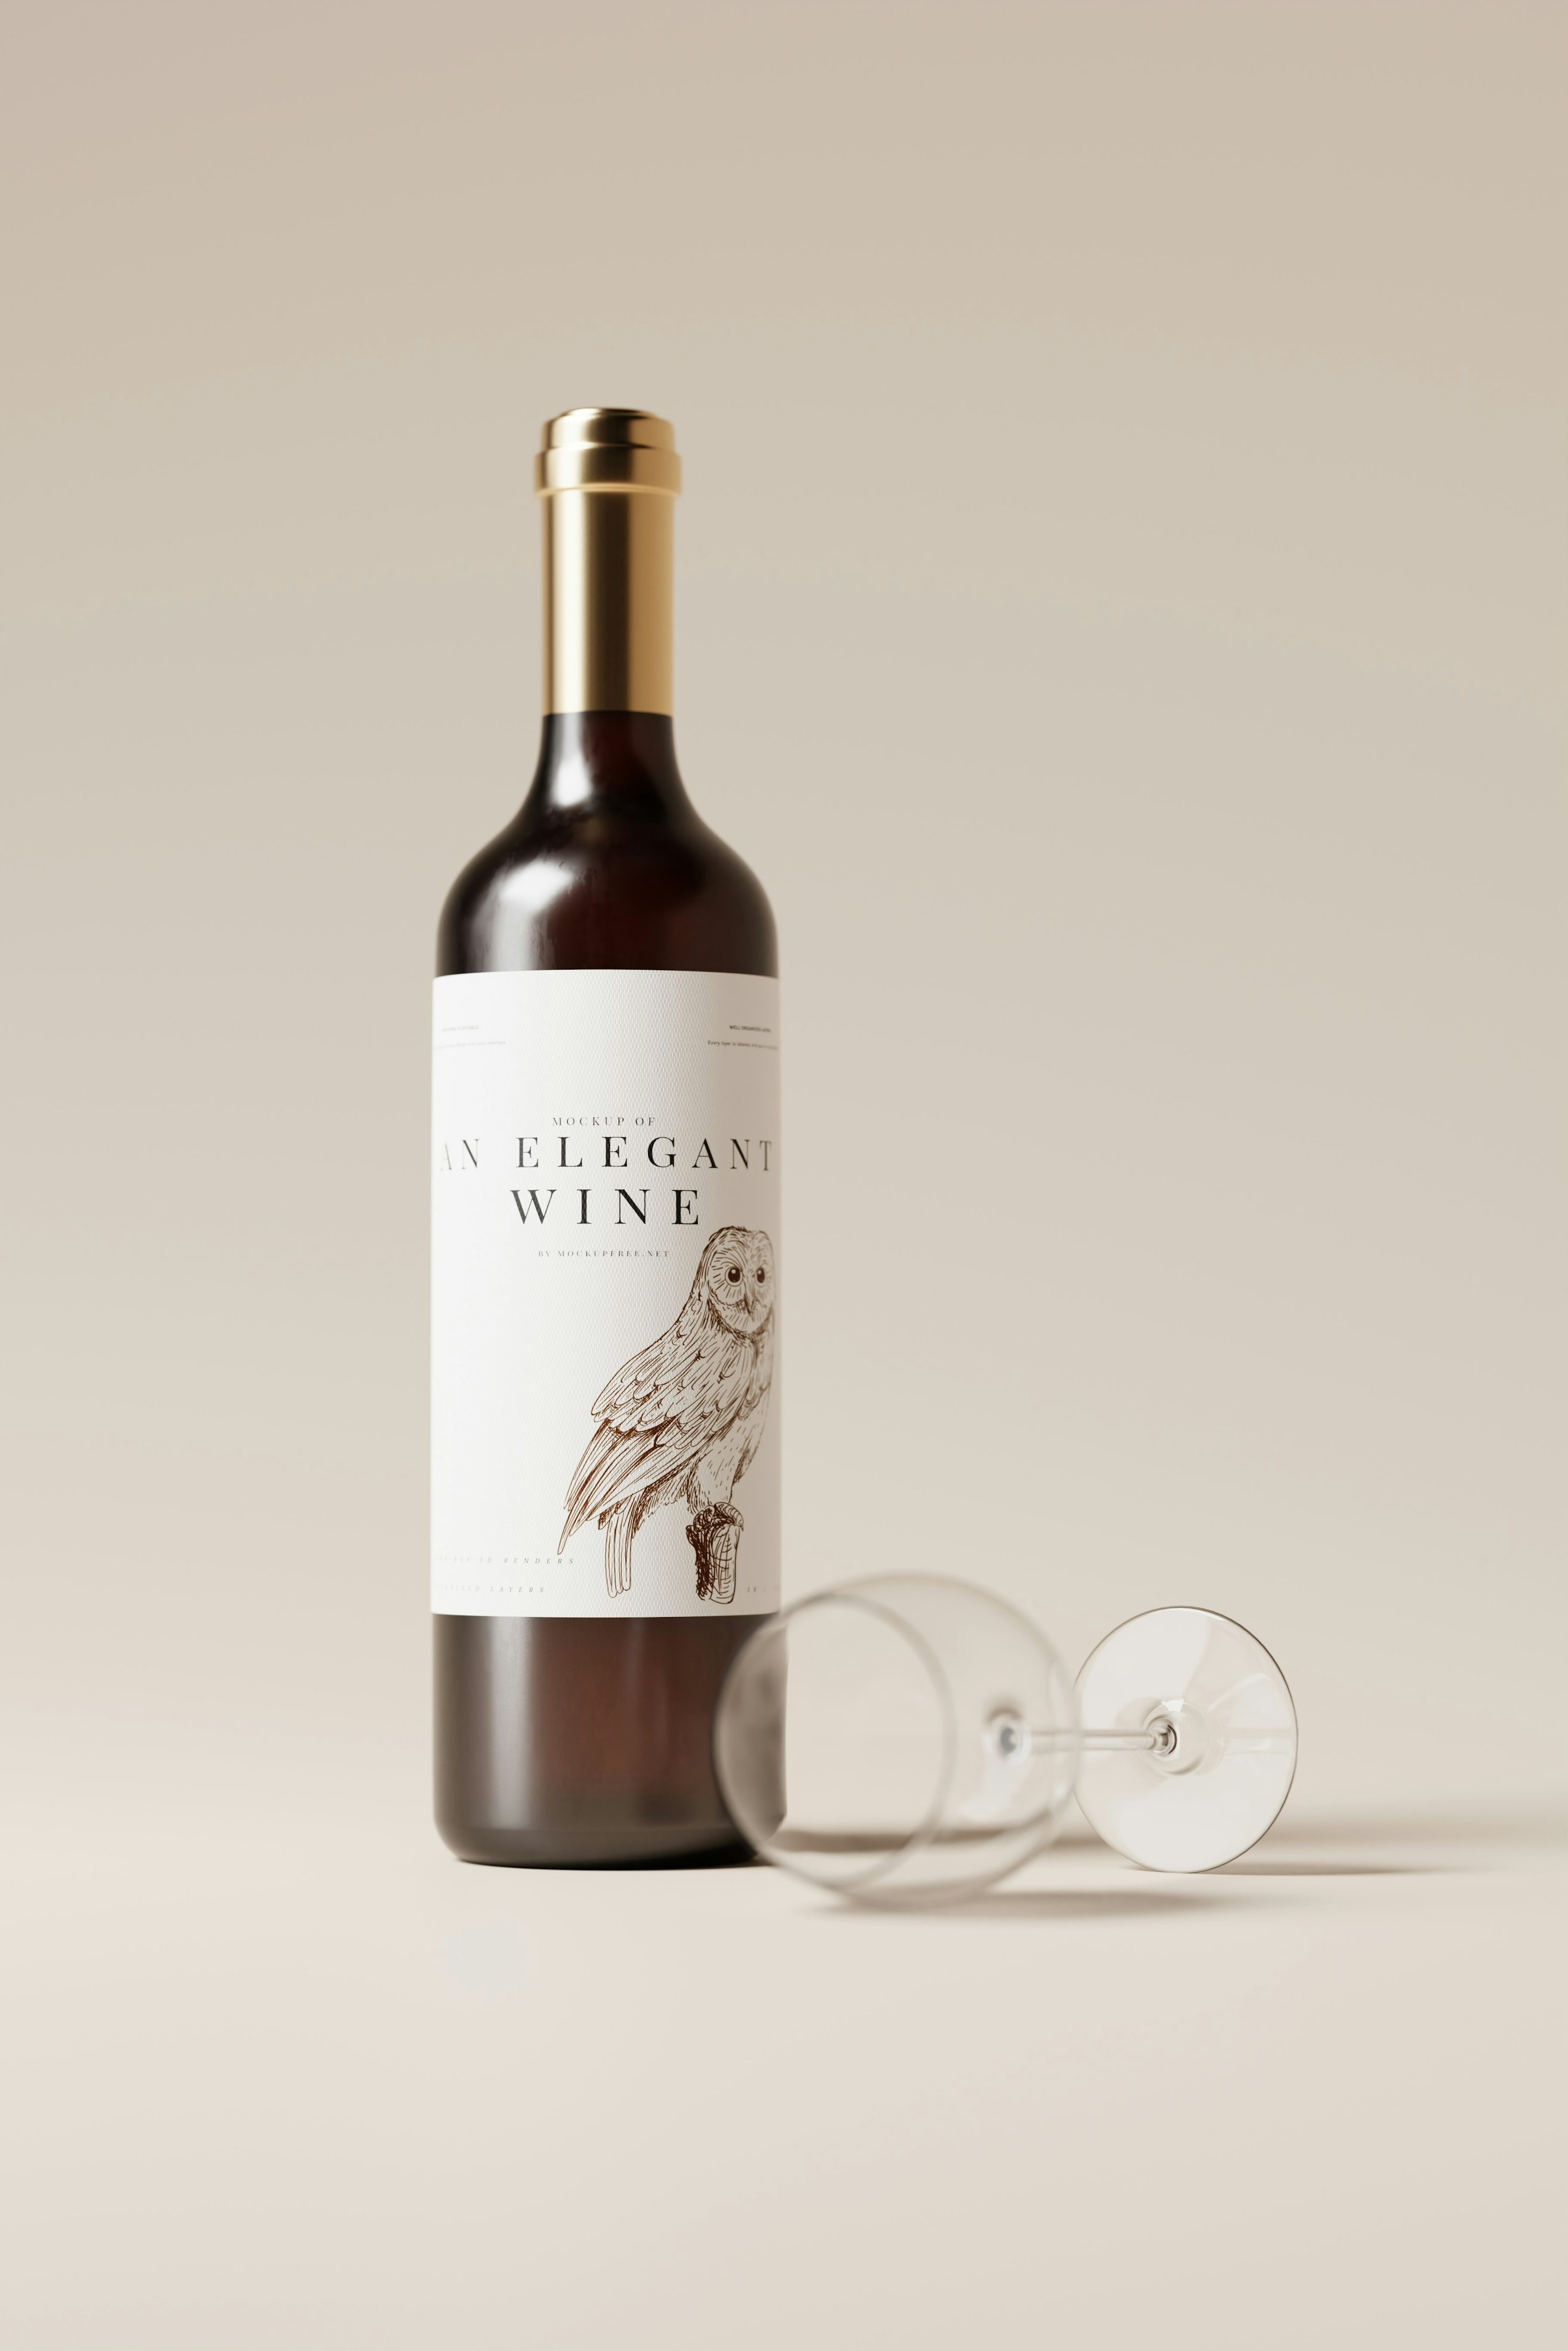glass_bottle: (355, 353, 833, 1926)
